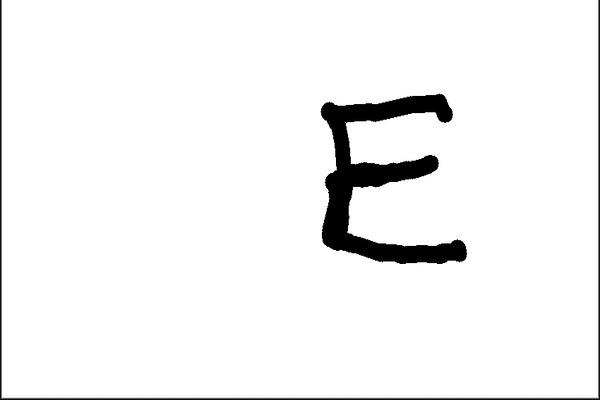E: (313, 88, 476, 270)
